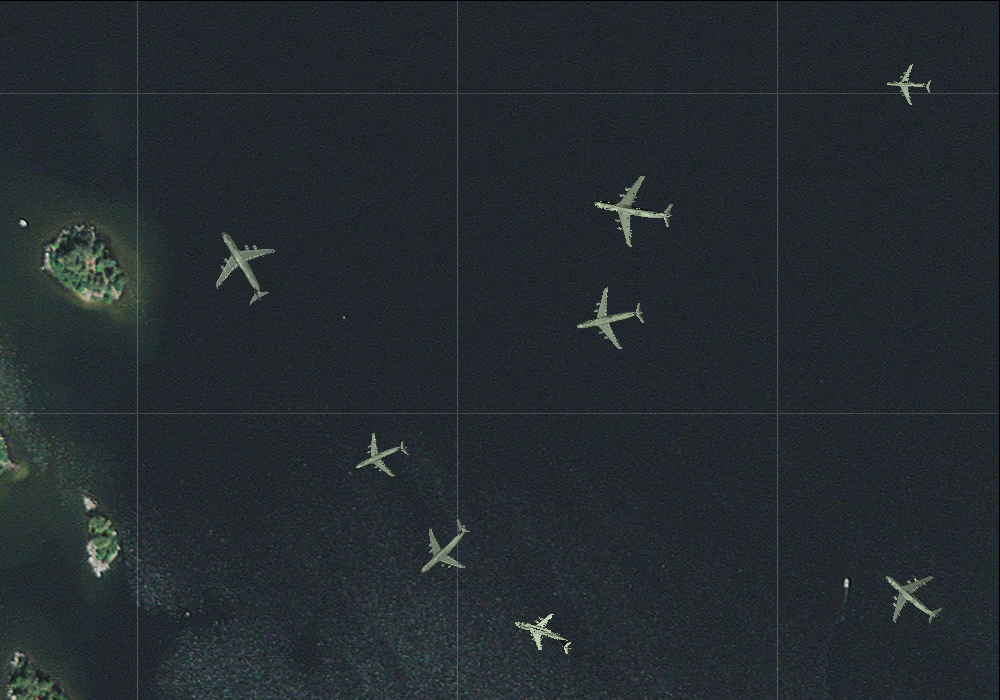plane: (189, 212, 294, 318), (586, 164, 679, 254), (866, 551, 957, 642), (399, 504, 487, 593), (569, 280, 650, 358), (345, 422, 417, 492), (506, 601, 579, 668), (886, 62, 932, 107)
